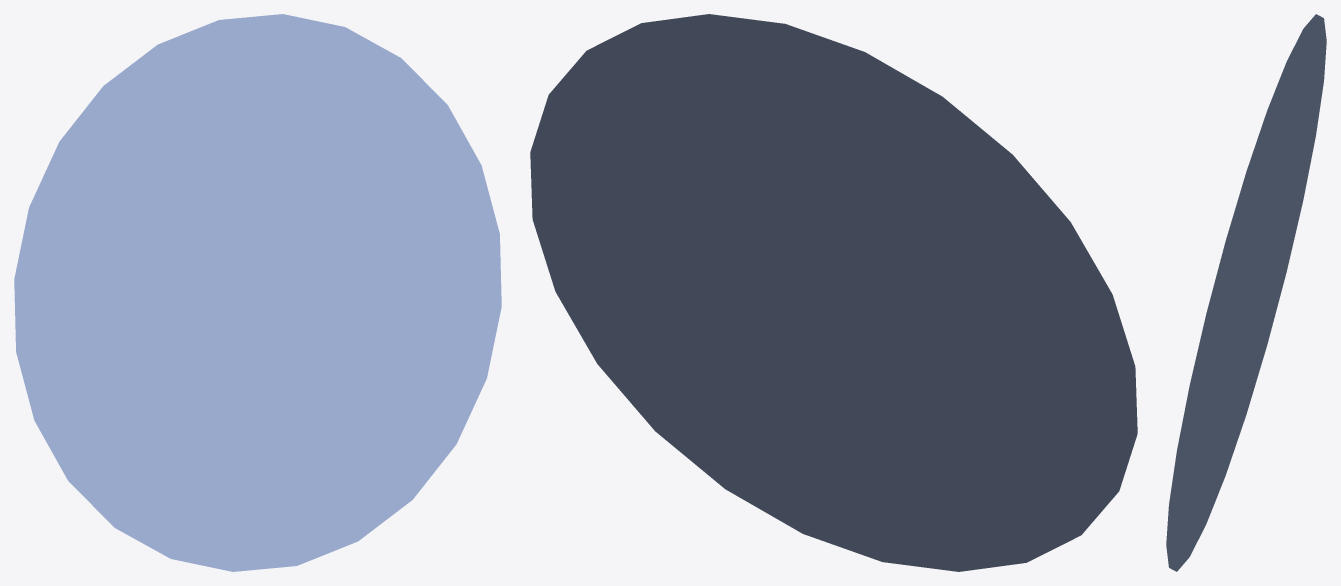
The model's file is original-5.obj.
3 views of the same model, side by side, from view 1: azimuth 30°, elevation 25°; view 2: azimuth 150°, elevation 25°; view 3: azimuth 270°, elevation 25° (orthographic). The views are drawn at different scales.
Parts seen in each view (by area): view 1: #ID22; view 2: #ID22; view 3: #ID22.
Boxes of the visible parts, <box> form: #ID22: <box>14,14,501,571</box>; #ID22: <box>530,14,1137,571</box>; #ID22: <box>1166,14,1326,571</box>.
Bounding box in the file's own units: 0.078 × 0.0753 × 0.0218.
